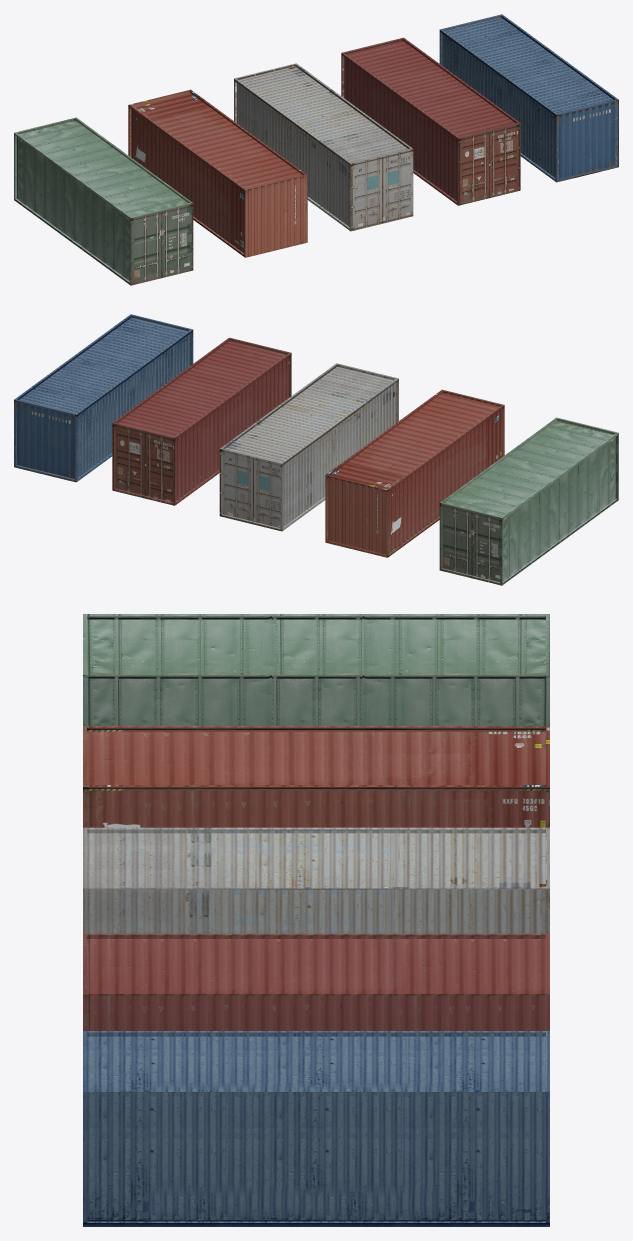
Rendered from containers.FBX.
The picture shows the model from 3 angles, top to bottom: view 1: azimuth 30°, elevation 25°; view 2: azimuth 150°, elevation 25°; view 3: azimuth 270°, elevation 25°; orthographic projection. The views are drawn at different scales.
Parts seen in each view (by area): view 1: metal containerE, metal containerD, metal containerB, metal containerC, metal containeA; view 2: metal containerE, metal containerD, metal containerB, metal containerC, metal containeA; view 3: metal containeA, metal containerE, metal containerC, metal containerD, metal containerB.
Part boxes in pixels (<box>): metal containerE: <box>14,117,193,285</box>; metal containerD: <box>128,89,307,257</box>; metal containerB: <box>341,37,520,205</box>; metal containerC: <box>234,63,413,231</box>; metal containeA: <box>439,14,618,182</box>; metal containerE: <box>439,417,618,585</box>; metal containerD: <box>325,389,504,557</box>; metal containerB: <box>112,337,291,505</box>; metal containerC: <box>219,363,398,531</box>; metal containeA: <box>14,314,193,482</box>; metal containeA: <box>83,1031,549,1226</box>; metal containerE: <box>83,614,549,725</box>; metal containerC: <box>83,827,549,933</box>; metal containerD: <box>83,726,549,827</box>; metal containerB: <box>83,933,549,1030</box>.
Size of the model in its own units: 33.31 by 4.48 by 13.81.
